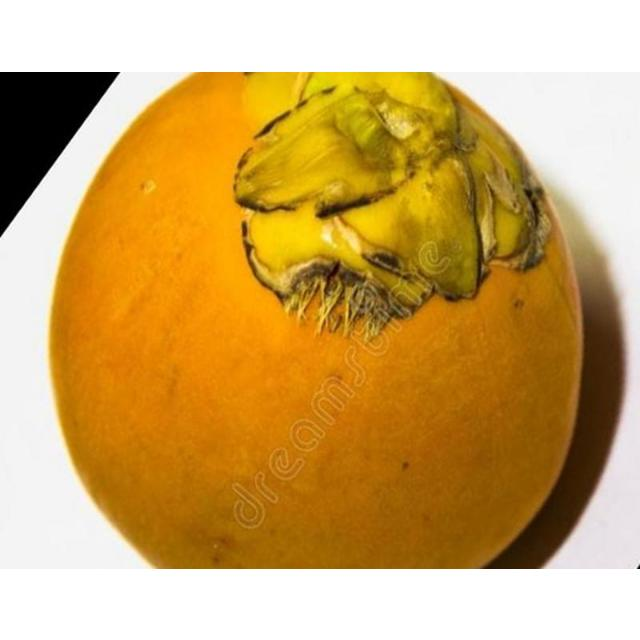good: (44, 71, 586, 568)
